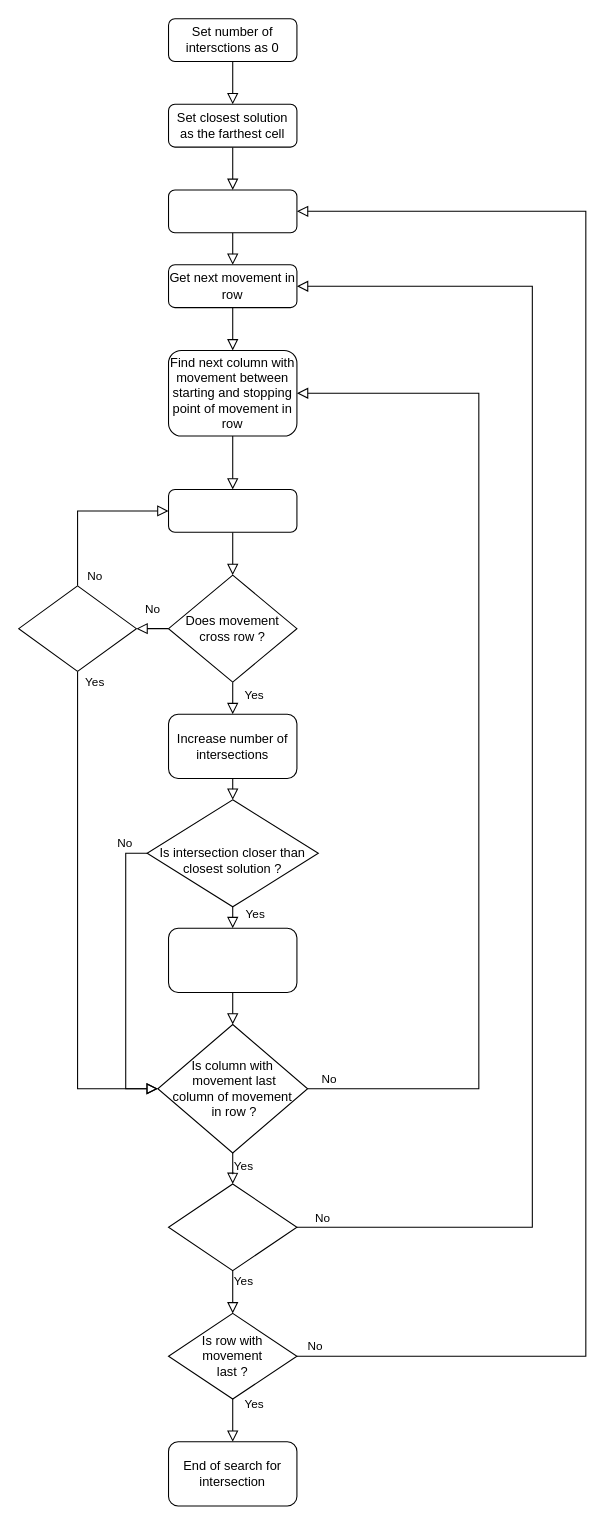
The diagram is 615 pixels wide and 1525 high, and some of its shapes have lost their labels. The shapes that lost their labels are listed below. From the top down, each one's centre as x and y in pixels, then its label:
the point at 232,211: Get next row with movement
the point at 232,510: Get next movement in column
the point at 77,628: Is movement last ?
the point at 232,959: Set closest solution as new intersection's position
the point at 232,1227: Is movement in row last ?
